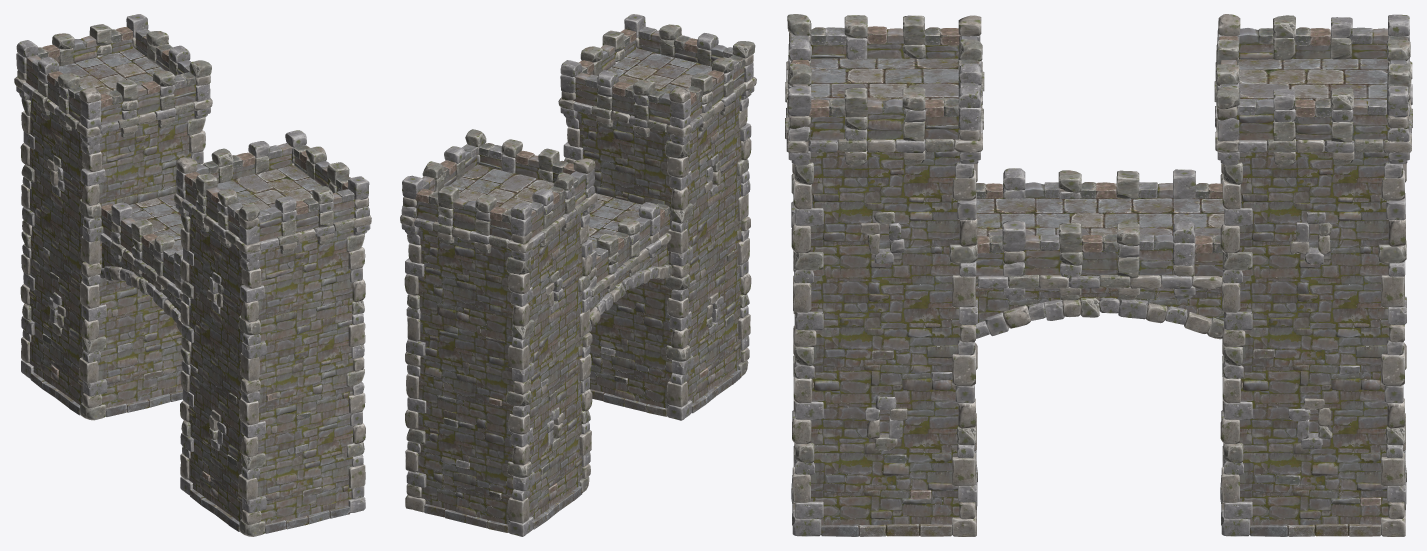
3 renders of one model, left to right at view 1: azimuth 30°, elevation 25°; view 2: azimuth 150°, elevation 25°; view 3: azimuth 270°, elevation 25°, orthographic. The views are drawn at different scales.
Parts seen in each view (by area): view 1: SM_Castle_Entrance_01_v1_LOD0; view 2: SM_Castle_Entrance_01_v1_LOD0; view 3: SM_Castle_Entrance_01_v1_LOD0.
Boxes of the visible parts, left/top/right/bottom form: SM_Castle_Entrance_01_v1_LOD0: left=14, top=14, right=371, bottom=536; SM_Castle_Entrance_01_v1_LOD0: left=400, top=14, right=756, bottom=536; SM_Castle_Entrance_01_v1_LOD0: left=785, top=14, right=1412, bottom=536.
Bounding box in the file's own units: 5.76 × 14.15 × 18.14.
Materials: 5 (5 with a texture image).
